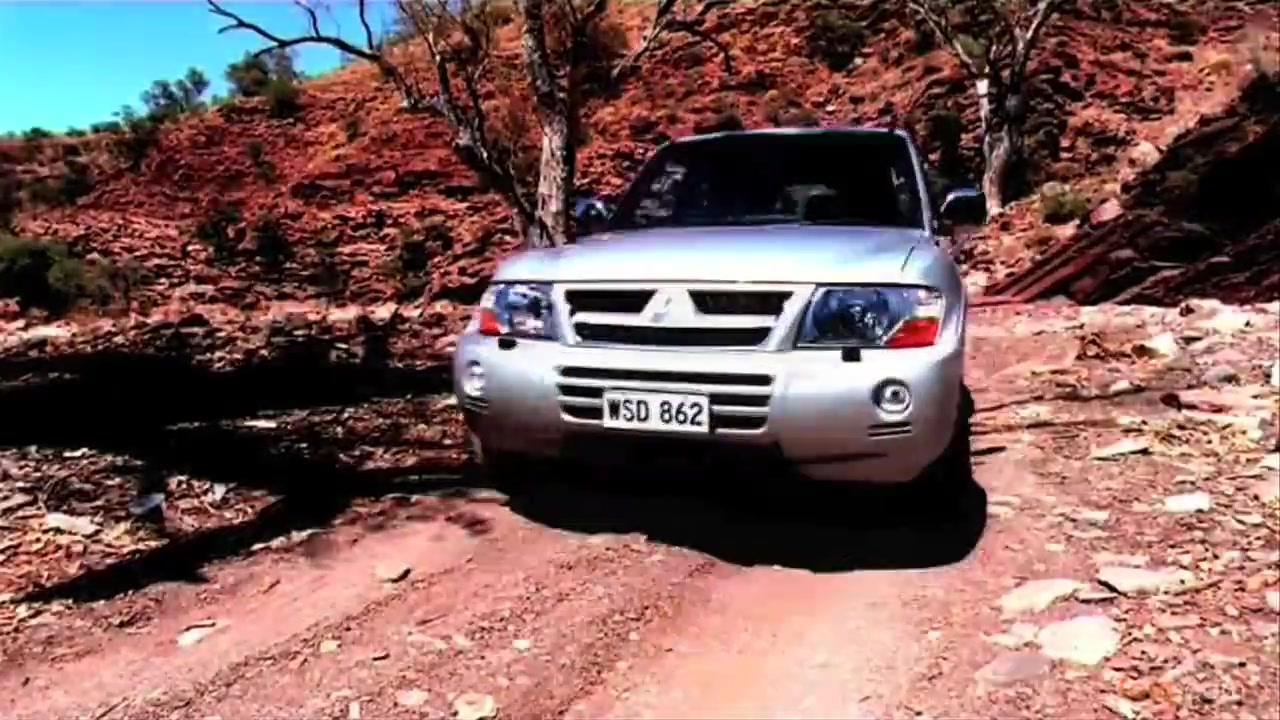car: (453, 117, 989, 495)
